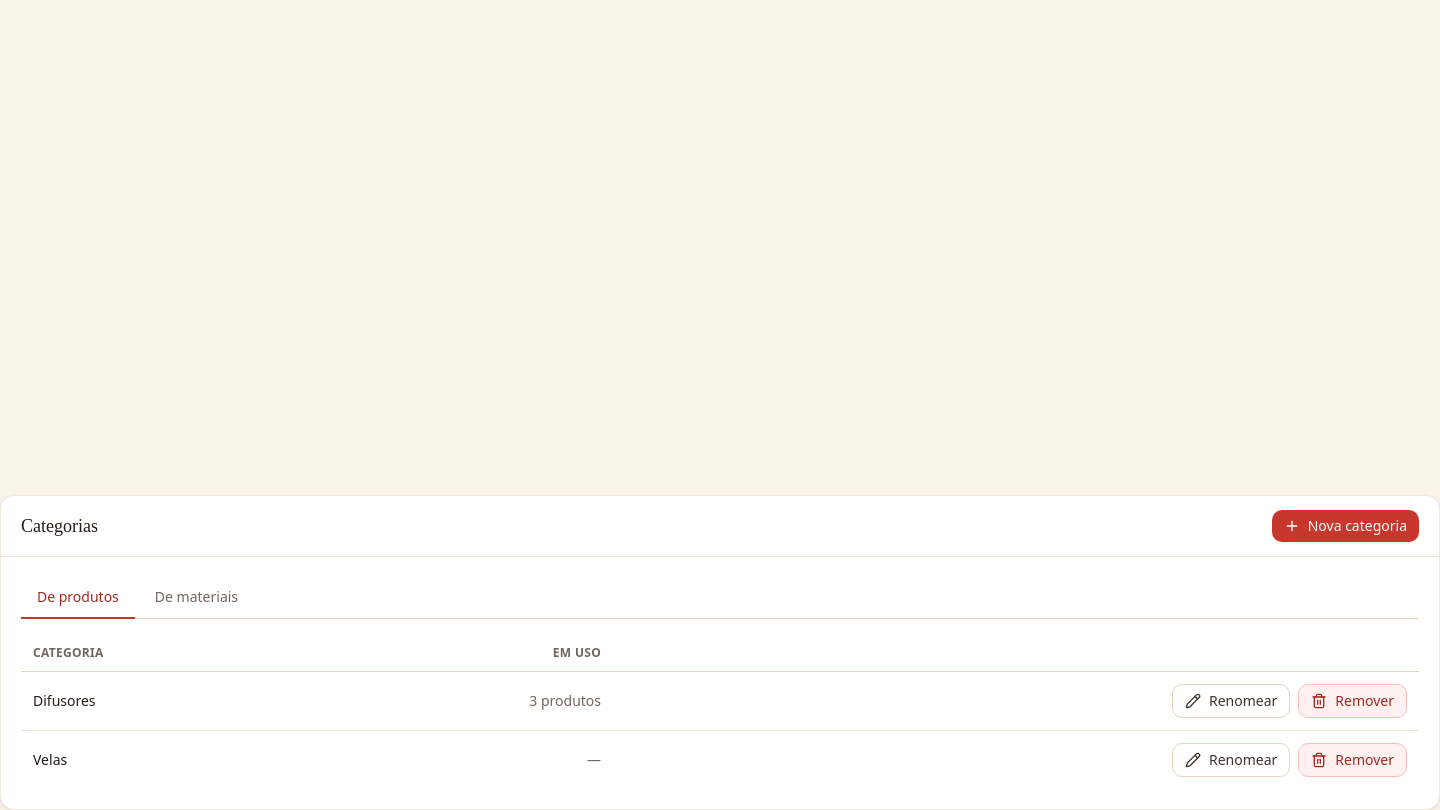
Test: Configurações → Categorias › lista por tipo, com a quantidade de itens
(page scrolled)
Expected: the text "3 produtos" is shown, [529,691,601,710]
Click the tab "De materiais" at point(196, 598), box [139,577,254,619]
(page scrolled)
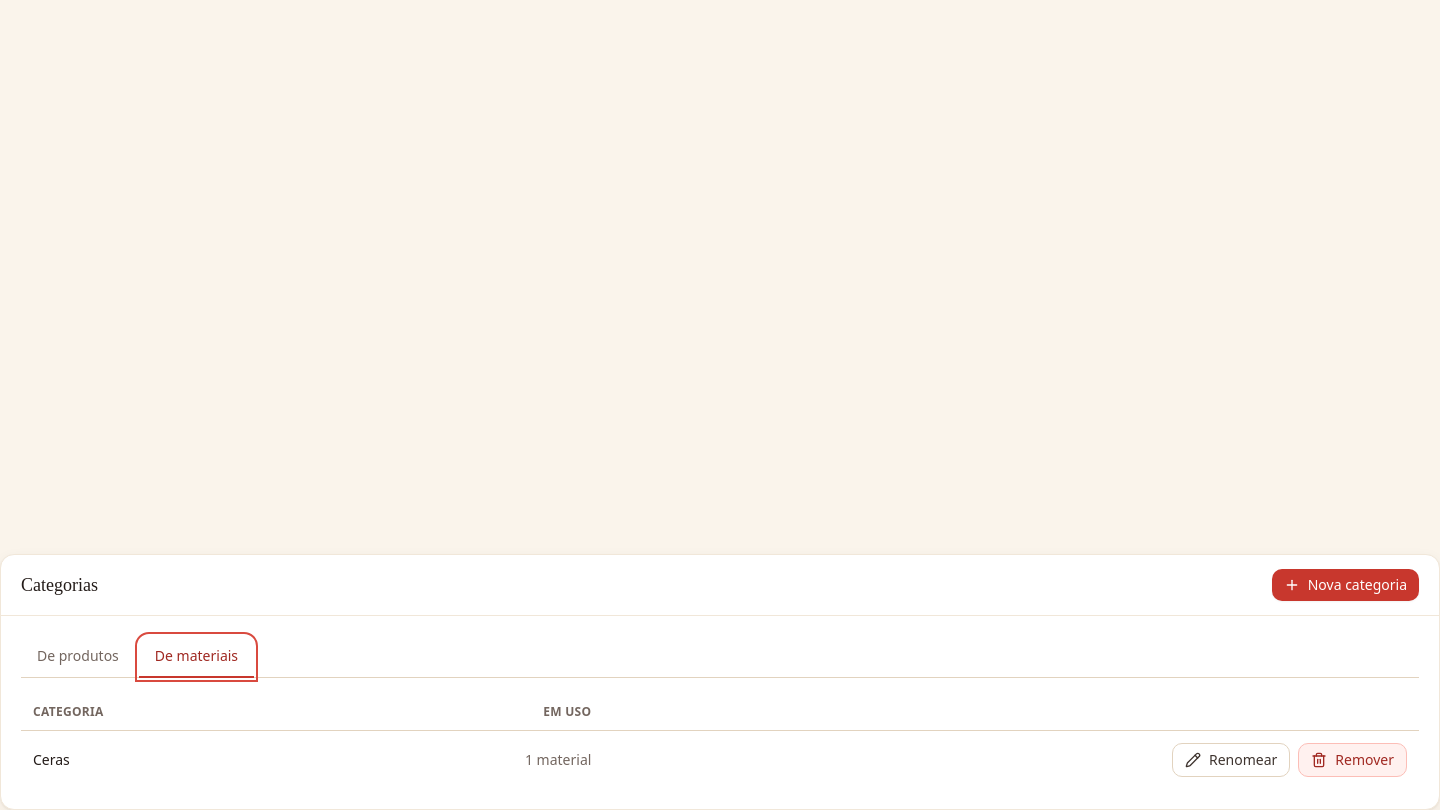
Now the text "1 material" is shown, box [525,750,591,769]
Now the text "Velas" is gone
